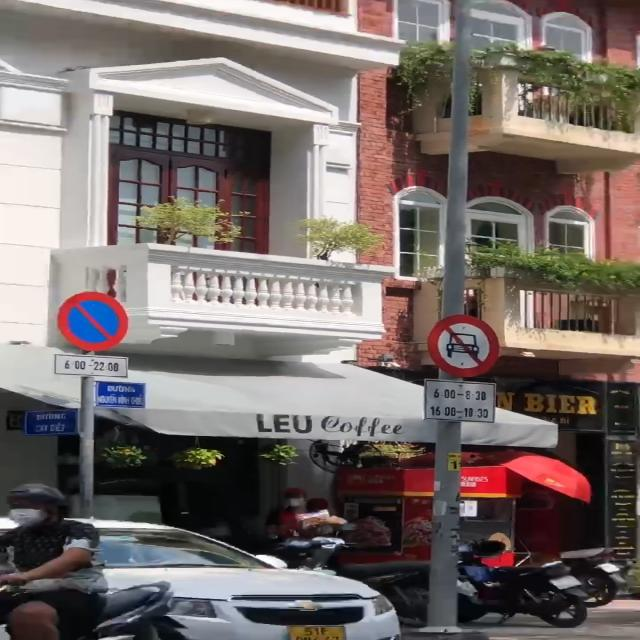Bien bao cam do xe: (47, 288, 134, 354)
Bien bao cam xe oto: (421, 311, 504, 381)
